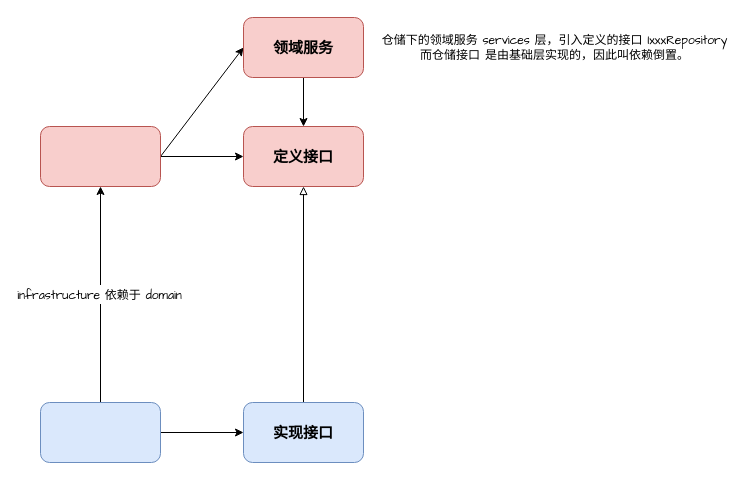
This 755x480 diagram has some shape labels left out. The box of each missing label's shape, as (x1, y1, x2, y2) in pixels:
domain 领域层: (40, 126, 160, 186)
infrastructure 仓储层: (40, 402, 160, 462)
